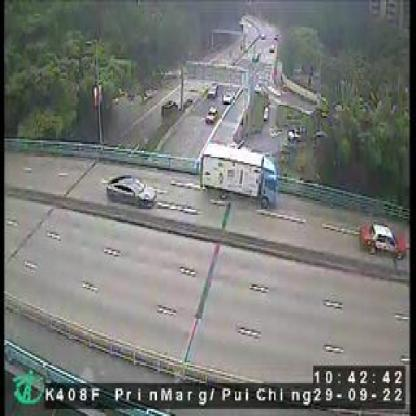Car: (358, 218, 405, 262), (102, 174, 154, 204), (204, 104, 220, 128), (222, 87, 237, 102), (206, 80, 218, 97)
Truck: (198, 140, 278, 212)
